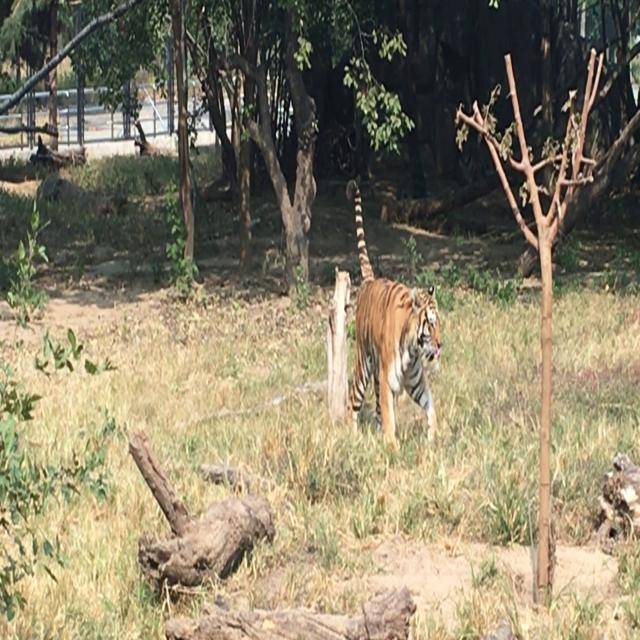Tiger: (338, 155, 452, 479)
